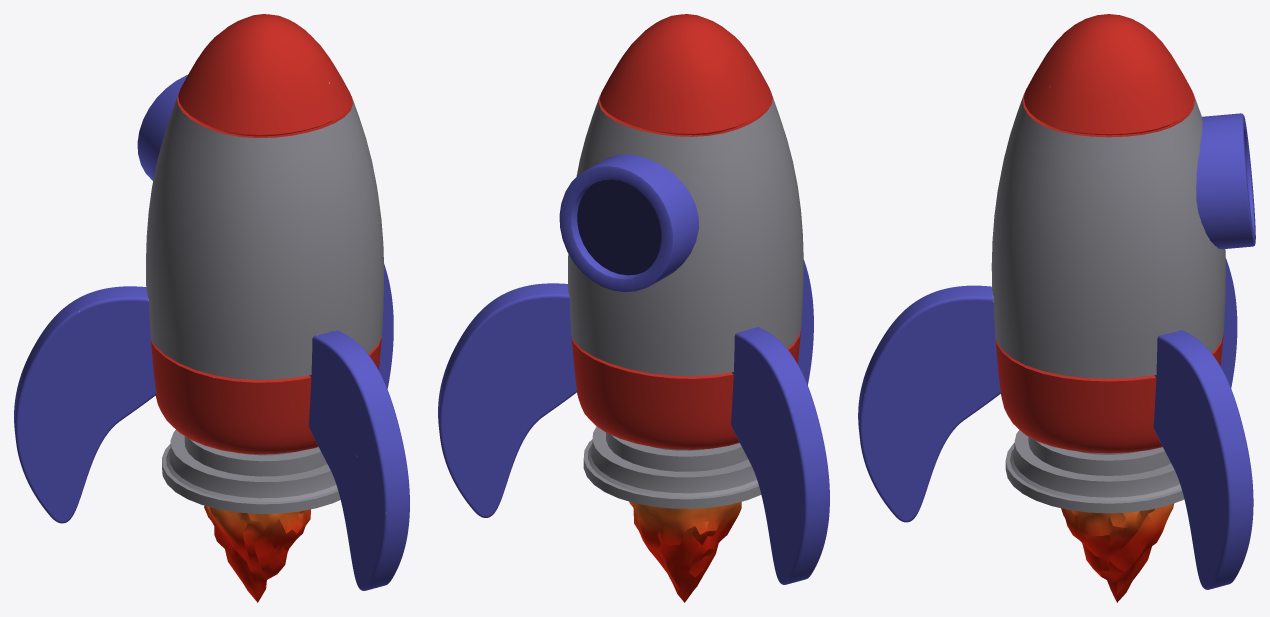
Rendered from Spaceship-nrzwHWuA.glb.
The picture shows the model from 3 angles, left to right: view 1: azimuth 30°, elevation 25°; view 2: azimuth 150°, elevation 25°; view 3: azimuth 270°, elevation 25°; orthographic projection.
Visible parts, largest first — view 1: Cube; view 2: Cube; view 3: Cube.
Part boxes in pixels (x1=…): Cube: x1=14, y1=14, x2=409, y2=602; Cube: x1=438, y1=14, x2=829, y2=602; Cube: x1=858, y1=14, x2=1255, y2=602.
Size of the model in its own units: 3.69 by 5.35 by 3.29.
2 materials, 2 textured.
